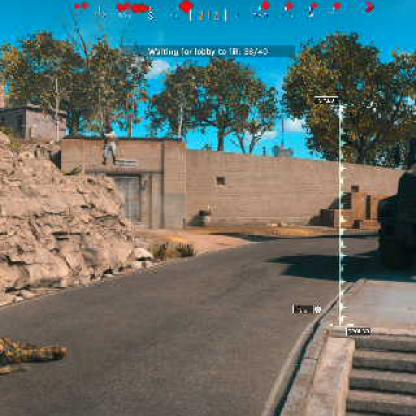enemy: (100, 126, 117, 168)
